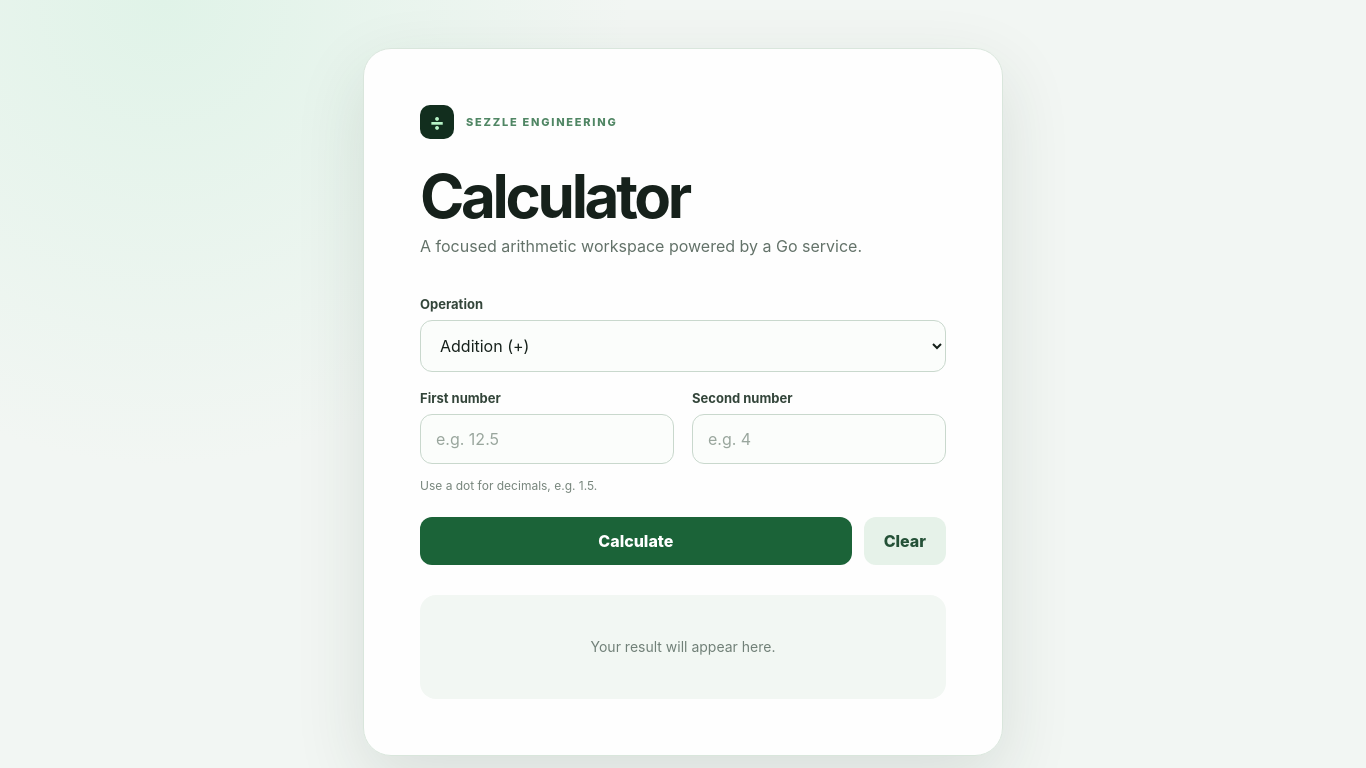
Test case: Calculator app › prevents invalid input from reaching the API
Type "12abc" into the field labelled "First number".
click(547, 439); type("12abc")  # box [420,414,674,464]
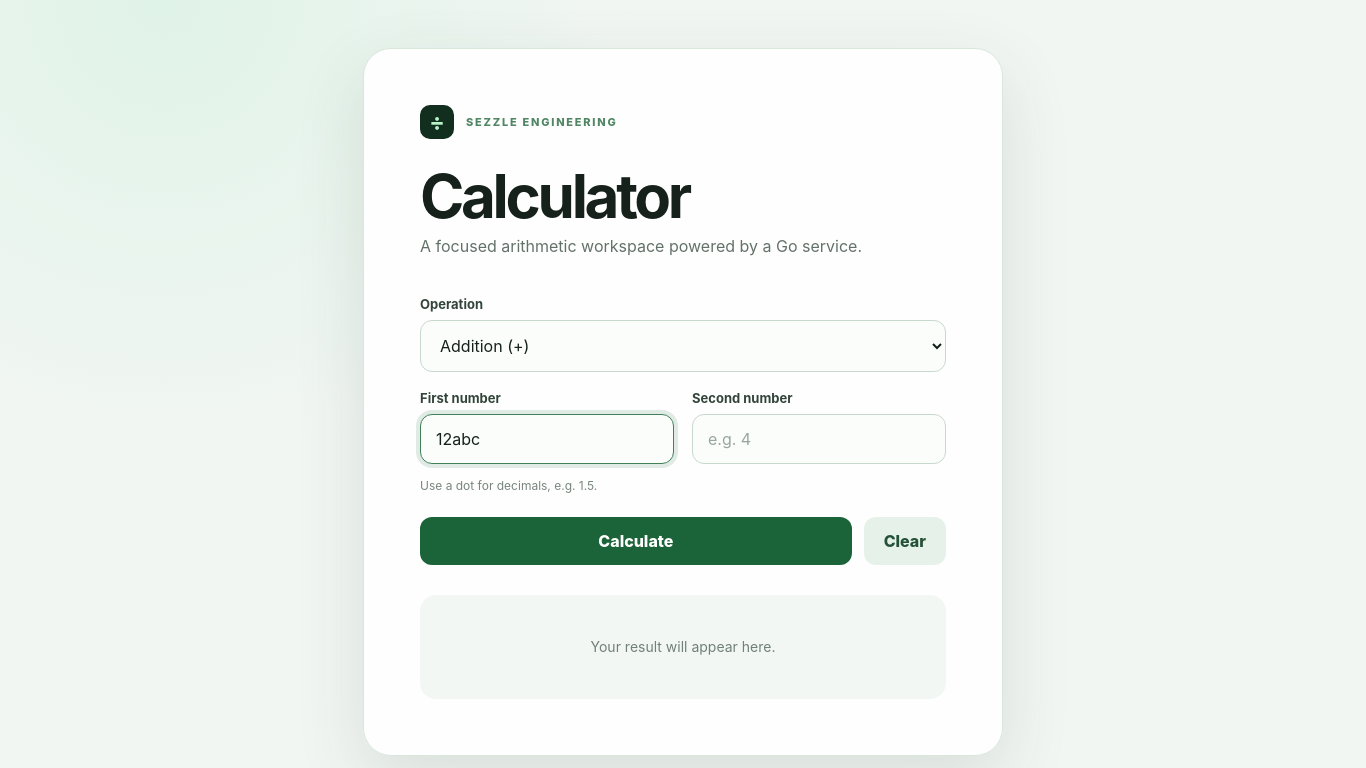
Type "2" into the field labelled "Second number".
click(819, 439); type("2")  # box [692,414,946,464]
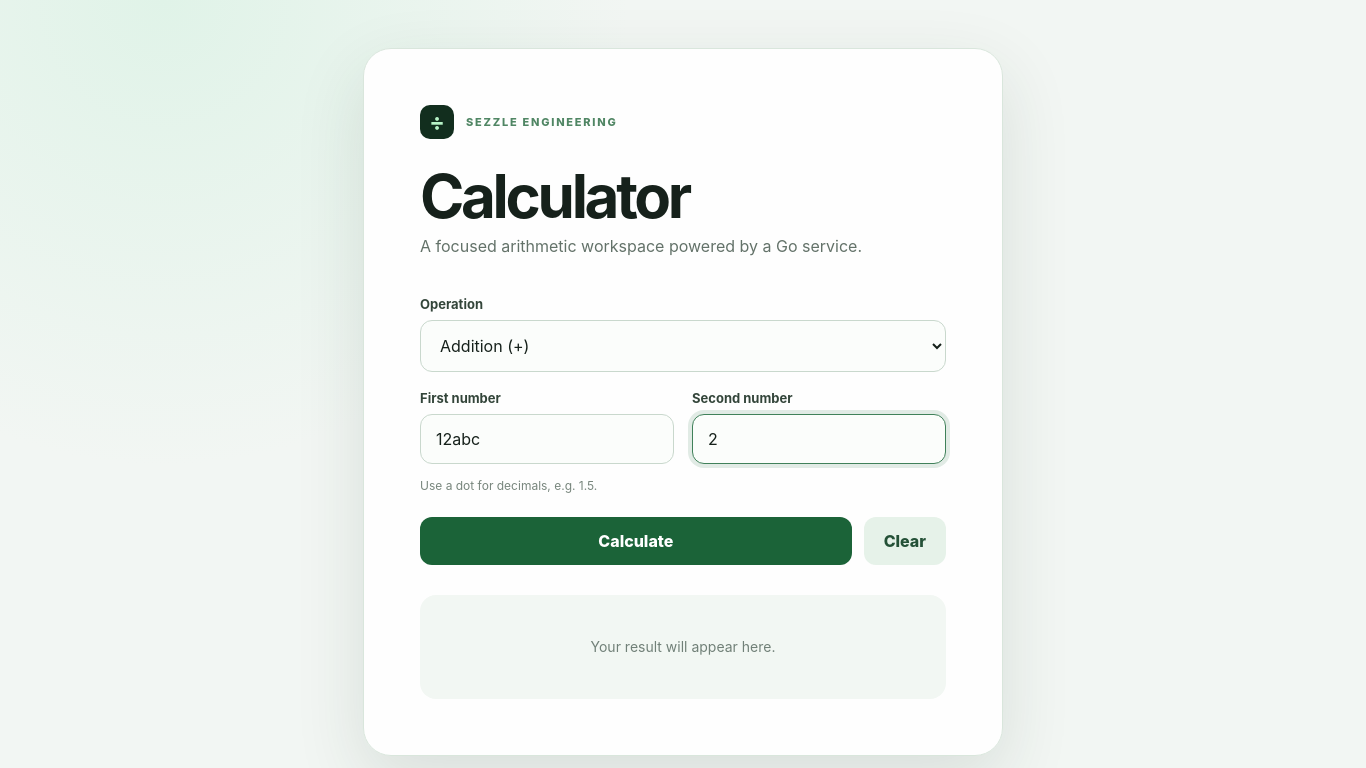
Click the button "Calculate".
click(636, 541)  # box [420,517,852,565]
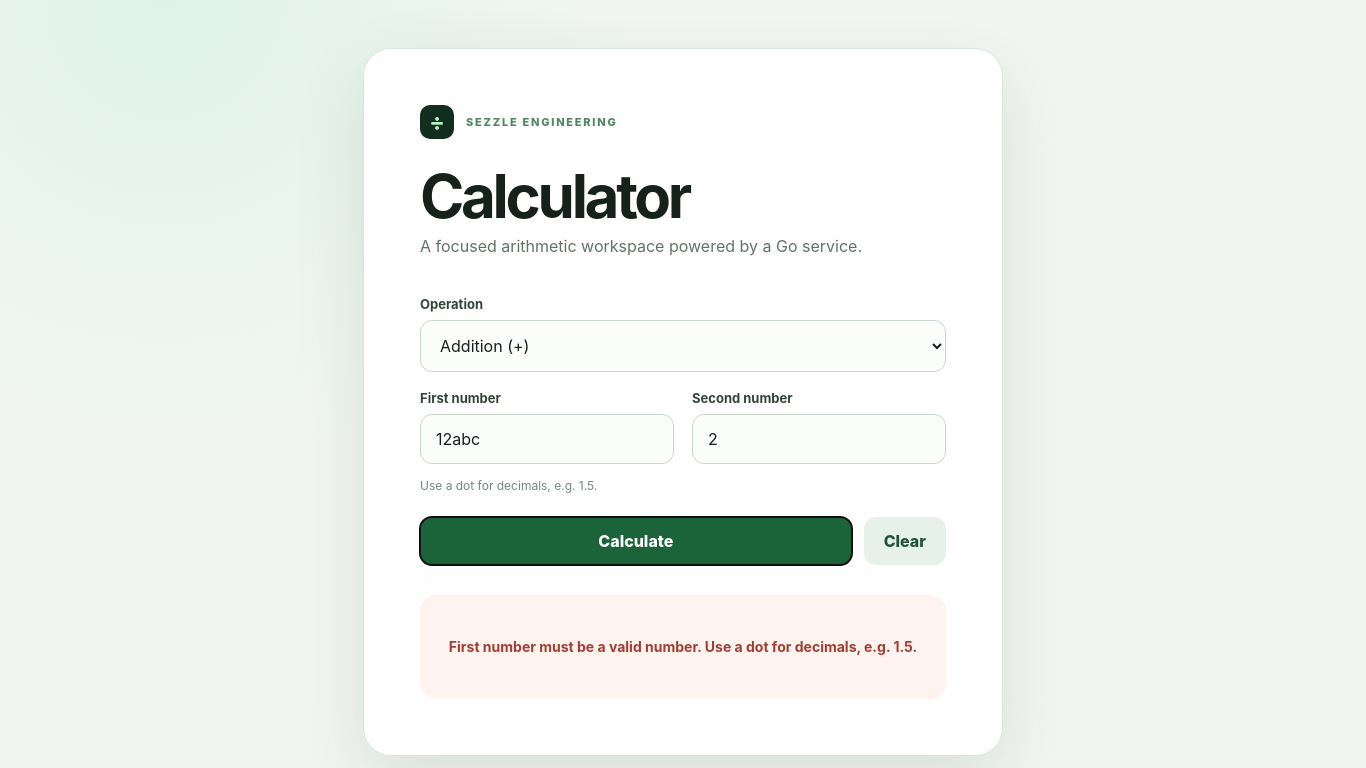
Check: the message shows "First number must be a valid number", box [449,638,917,655]
